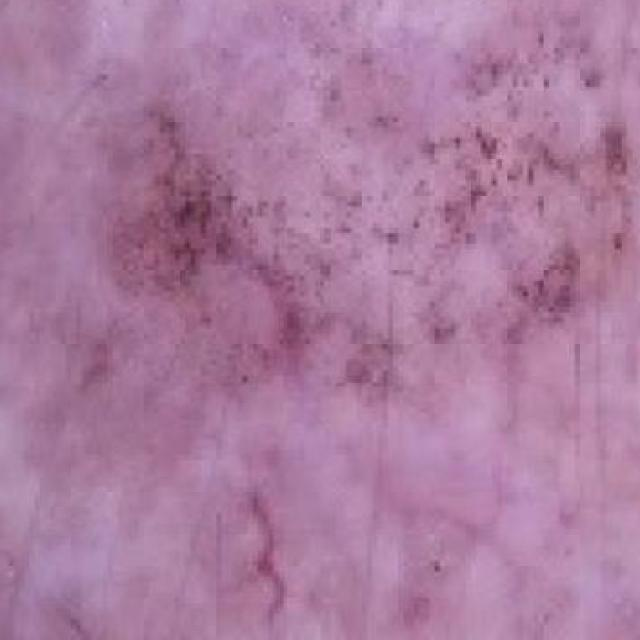BKL: (85, 35, 640, 479)
